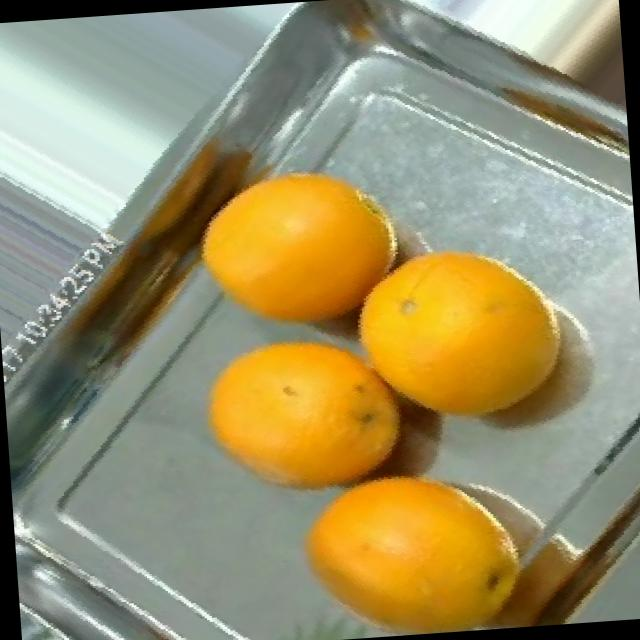Fruit: (231, 134, 434, 330)
